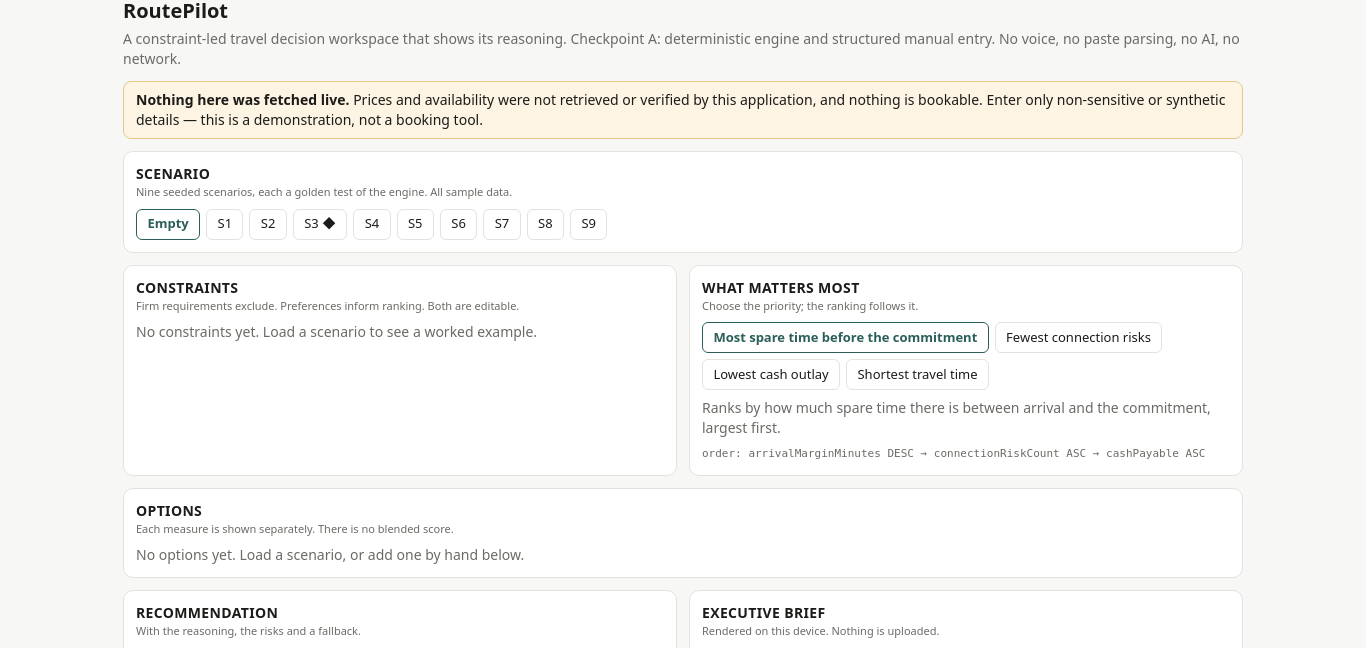
Test: the deterministic workflow when AI is unavailable › ranks, excludes and recommends with the AI endpoint returning 503
This screenshot has width=1366, height=648.
Click the button "S1" at (225, 224), box [206,208,244,240]
(page scrolled)
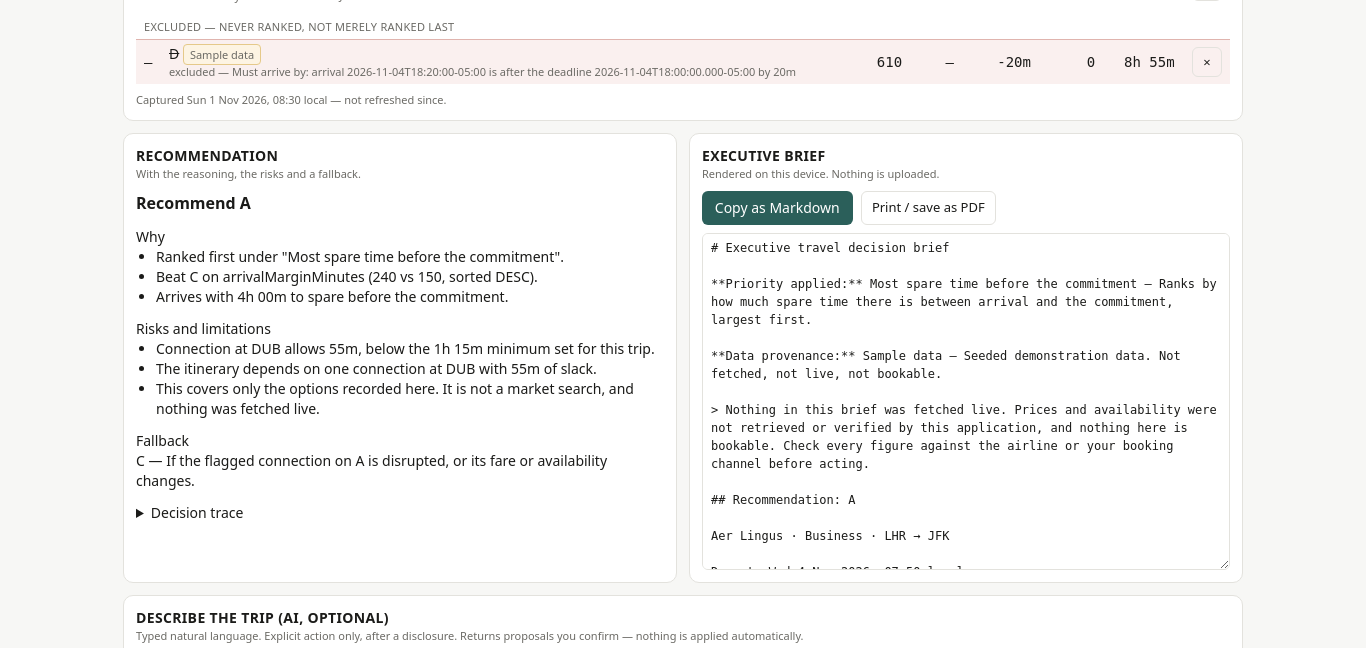
Result: the text "Excluded — never ranked, not merely ranked last" is shown at [136,7,1230,40]
Result: the heading "Recommend A" is shown at [136,192,251,214]
Result: the list item "Beat C on arrivalMarginMinutes (240 vs 150, sorted DESC)." is shown at [156,267,538,286]
